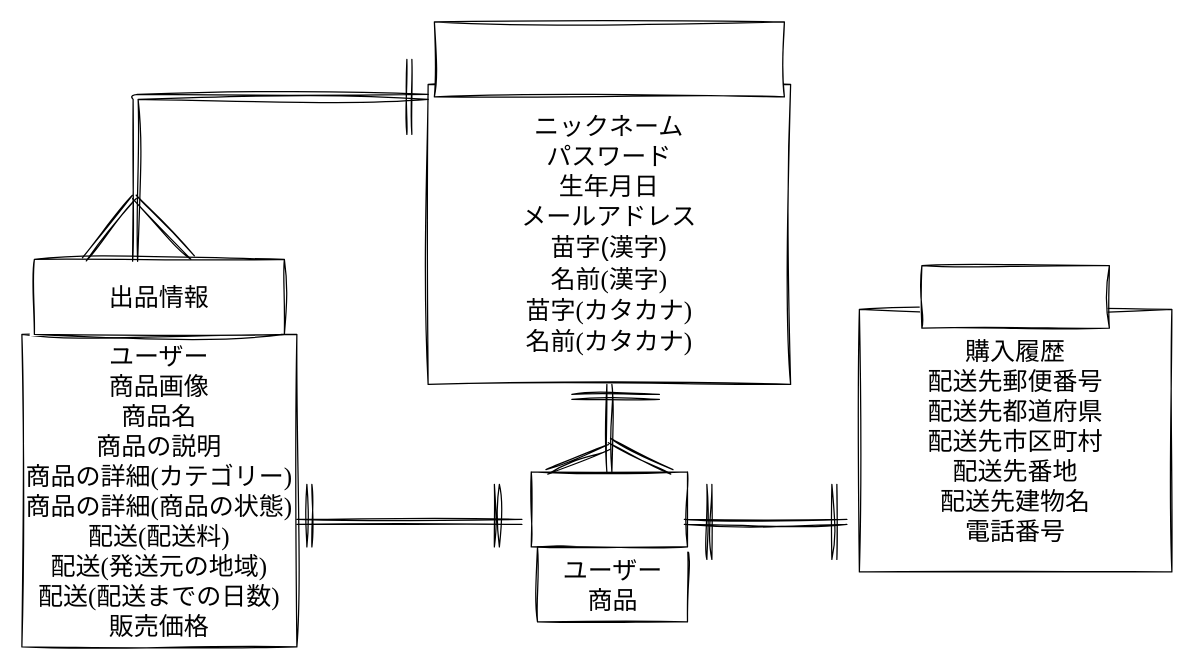
Image size: 1194x669. Some labels were removed from this diagram. Here are the shapes that lost their labels. From the top down, the centre of each, then its label:
At pixel 608 59: "ユーザー情報".
At pixel 1015 296: "購入者情報".
At pixel 609 509: "購入履歴".
